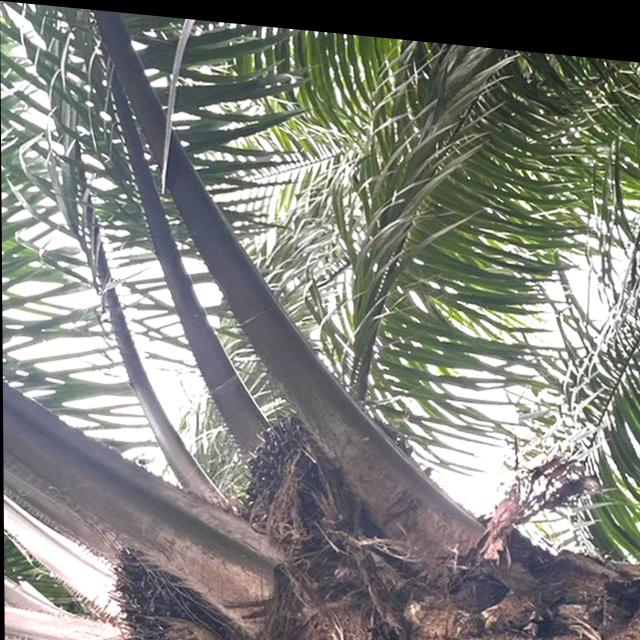almost: (238, 389, 387, 550)
